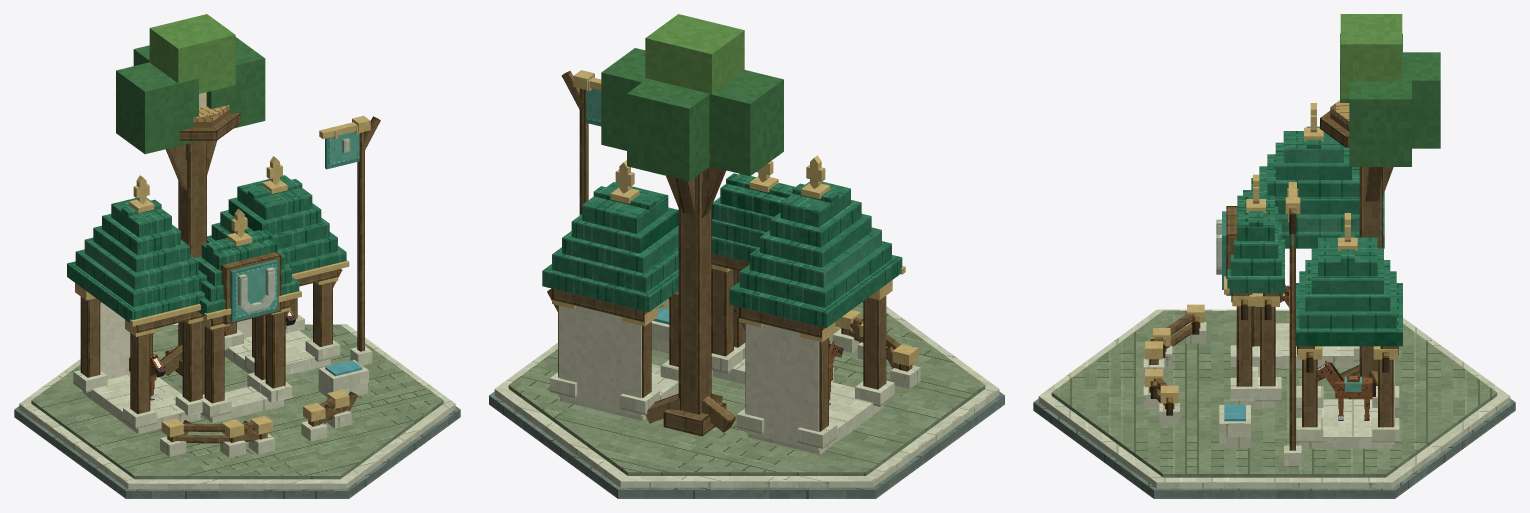
Rendered from elf_cavalry_mastery_hex_v1.glb.
3 renders of one model, left to right at view 1: azimuth 30°, elevation 25°; view 2: azimuth 150°, elevation 25°; view 3: azimuth 270°, elevation 25°, orthographic. The views are drawn at different scales.
Visible parts, largest first — view 1: Elf_Cavalry_Mastery_Hex_V1_Foundation, Elf_Cavalry_Mastery_Hex_V1_Roofs, Elf_Cavalry_Mastery_Hex_V1_Hall, Elf_Cavalry_Mastery_Hex_V1_Focus, Elf_Cavalry_Mastery_Hex_V1_Faction, Elf_Cavalry_Mastery_Hex_V1_Courtyard, Elf_Cavalry_Mastery_Hex_V1_Training; view 2: Elf_Cavalry_Mastery_Hex_V1_Foundation, Elf_Cavalry_Mastery_Hex_V1_Roofs, Elf_Cavalry_Mastery_Hex_V1_Focus, Elf_Cavalry_Mastery_Hex_V1_Hall, Elf_Cavalry_Mastery_Hex_V1_Courtyard, Elf_Cavalry_Mastery_Hex_V1_Faction, Elf_Cavalry_Mastery_Hex_V1_Training; view 3: Elf_Cavalry_Mastery_Hex_V1_Foundation, Elf_Cavalry_Mastery_Hex_V1_Roofs, Elf_Cavalry_Mastery_Hex_V1_Focus, Elf_Cavalry_Mastery_Hex_V1_Hall, Elf_Cavalry_Mastery_Hex_V1_Faction, Elf_Cavalry_Mastery_Hex_V1_Courtyard, Elf_Cavalry_Mastery_Hex_V1_Training.
Part boxes in pixels (<box>): Elf_Cavalry_Mastery_Hex_V1_Foundation: <box>14,324,460,498</box>; Elf_Cavalry_Mastery_Hex_V1_Roofs: <box>67,156,349,326</box>; Elf_Cavalry_Mastery_Hex_V1_Hall: <box>73,268,342,433</box>; Elf_Cavalry_Mastery_Hex_V1_Focus: <box>116,14,296,400</box>; Elf_Cavalry_Mastery_Hex_V1_Faction: <box>220,115,380,365</box>; Elf_Cavalry_Mastery_Hex_V1_Courtyard: <box>160,390,357,457</box>; Elf_Cavalry_Mastery_Hex_V1_Training: <box>318,359,368,396</box>; Elf_Cavalry_Mastery_Hex_V1_Foundation: <box>489,298,1004,498</box>; Elf_Cavalry_Mastery_Hex_V1_Roofs: <box>542,155,905,327</box>; Elf_Cavalry_Mastery_Hex_V1_Focus: <box>601,14,843,436</box>; Elf_Cavalry_Mastery_Hex_V1_Hall: <box>547,253,894,454</box>; Elf_Cavalry_Mastery_Hex_V1_Courtyard: <box>832,310,920,388</box>; Elf_Cavalry_Mastery_Hex_V1_Faction: <box>561,70,601,215</box>; Elf_Cavalry_Mastery_Hex_V1_Training: <box>651,308,669,353</box>; Elf_Cavalry_Mastery_Hex_V1_Foundation: <box>1033,309,1515,498</box>; Elf_Cavalry_Mastery_Hex_V1_Roofs: <box>1224,103,1402,346</box>; Elf_Cavalry_Mastery_Hex_V1_Focus: <box>1280,14,1440,420</box>; Elf_Cavalry_Mastery_Hex_V1_Hall: <box>1230,293,1399,448</box>; Elf_Cavalry_Mastery_Hex_V1_Faction: <box>1216,182,1301,465</box>; Elf_Cavalry_Mastery_Hex_V1_Courtyard: <box>1143,304,1206,424</box>; Elf_Cavalry_Mastery_Hex_V1_Training: <box>1219,404,1250,448</box>.
Size of the model in its own units: 1.59 by 1.61 by 1.84.
Materials: 1 (1 with a texture image).
